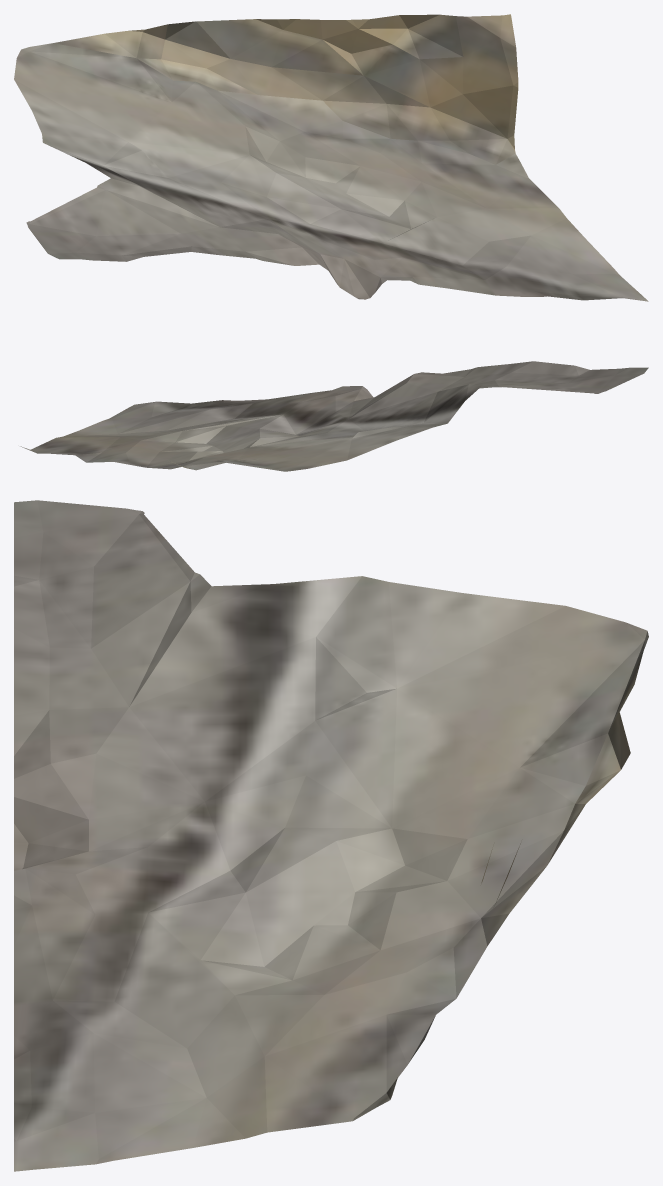
The picture shows the model from 3 angles, top to bottom: view 1: azimuth 30°, elevation 25°; view 2: azimuth 150°, elevation 25°; view 3: azimuth 270°, elevation 25°; orthographic projection. The views are drawn at different scales.
Bounding box in the file's own units: 2.03 × 0.6091 × 1.33.
Materials: 1 (1 with a texture image).
